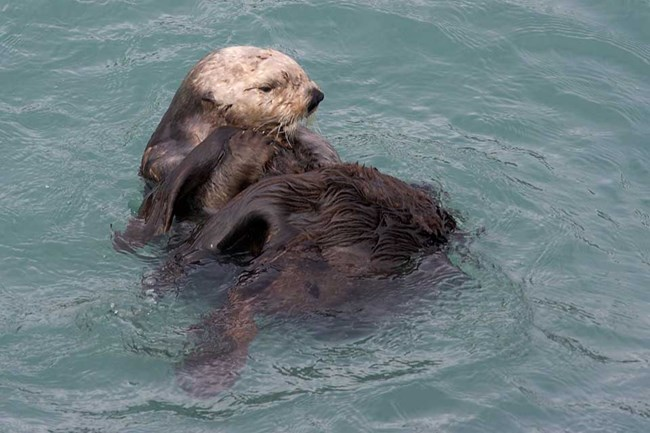otter: (153, 26, 338, 186)
